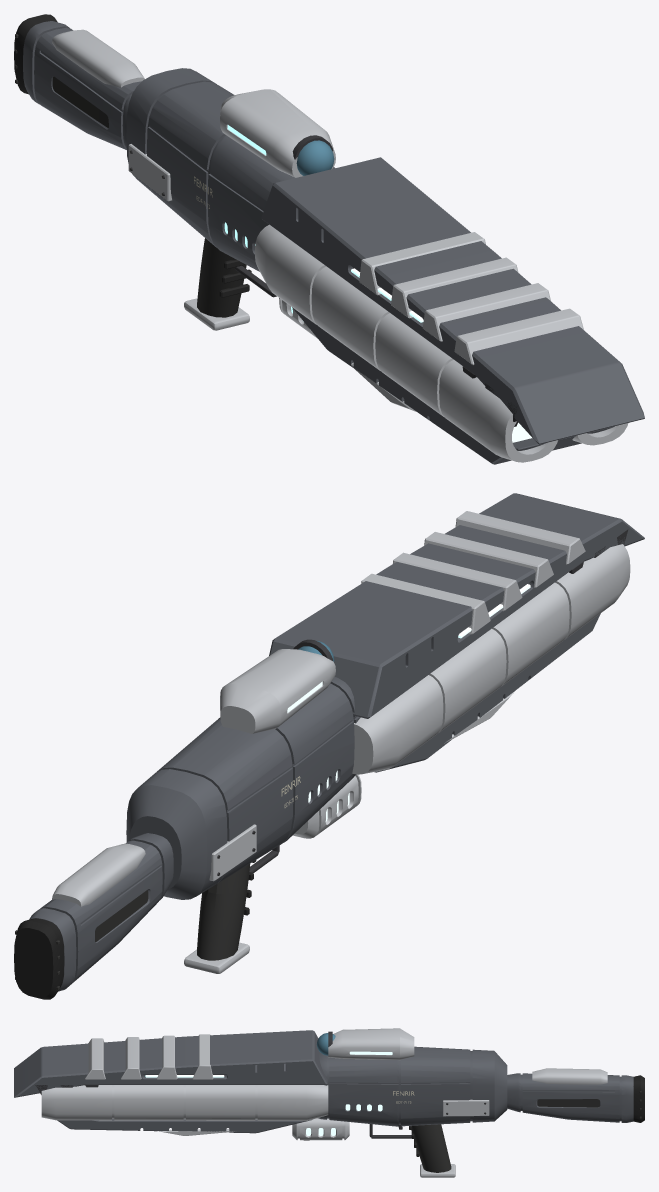
The model's file is fenrir.glb.
The picture shows the model from 3 angles, top to bottom: view 1: azimuth 30°, elevation 25°; view 2: azimuth 150°, elevation 25°; view 3: azimuth 270°, elevation 25°; orthographic projection. The views are drawn at different scales.
Parts seen in each view (by area): view 1: Body; view 2: Body; view 3: Body.
Boxes of the visible parts, left/top/right/bottom form: Body: left=14, top=14, right=644, bottom=464; Body: left=14, top=493, right=644, bottom=999; Body: left=14, top=1028, right=644, bottom=1177.
Size of the model in its own units: 0.122 by 0.2166 by 0.8805.
